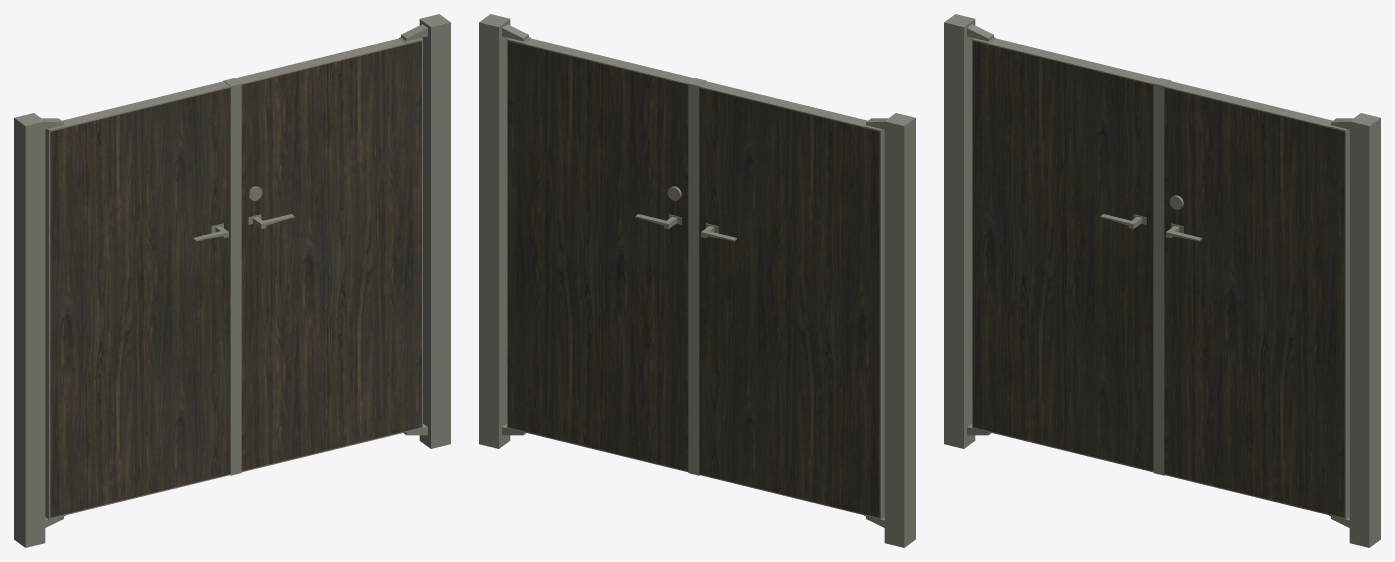
The model's file is abmonpi-flat_h1400-w700-700_brackebony.fbx.
3 views of the same model, side by side, from view 1: azimuth 30°, elevation 25°; view 2: azimuth 150°, elevation 25°; view 3: azimuth 330°, elevation 25° (orthographic).
Parts seen in each view (by area): view 1: abmonpi-flat_h1400-w700-700_brackebony.001; view 2: abmonpi-flat_h1400-w700-700_brackebony.001; view 3: abmonpi-flat_h1400-w700-700_brackebony.001.
Boxes of the visible parts, x1,y1,x2,y2 form: abmonpi-flat_h1400-w700-700_brackebony.001: (14,14,450,547); abmonpi-flat_h1400-w700-700_brackebony.001: (479,14,915,547); abmonpi-flat_h1400-w700-700_brackebony.001: (944,14,1380,547).
Size of the model in its own units: 160 by 152 by 16.7.
2 materials, 2 textured.
